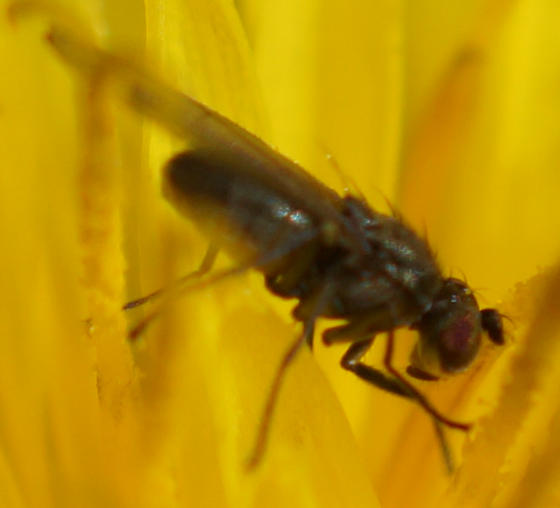Ephydridae: (53, 35, 512, 479)
